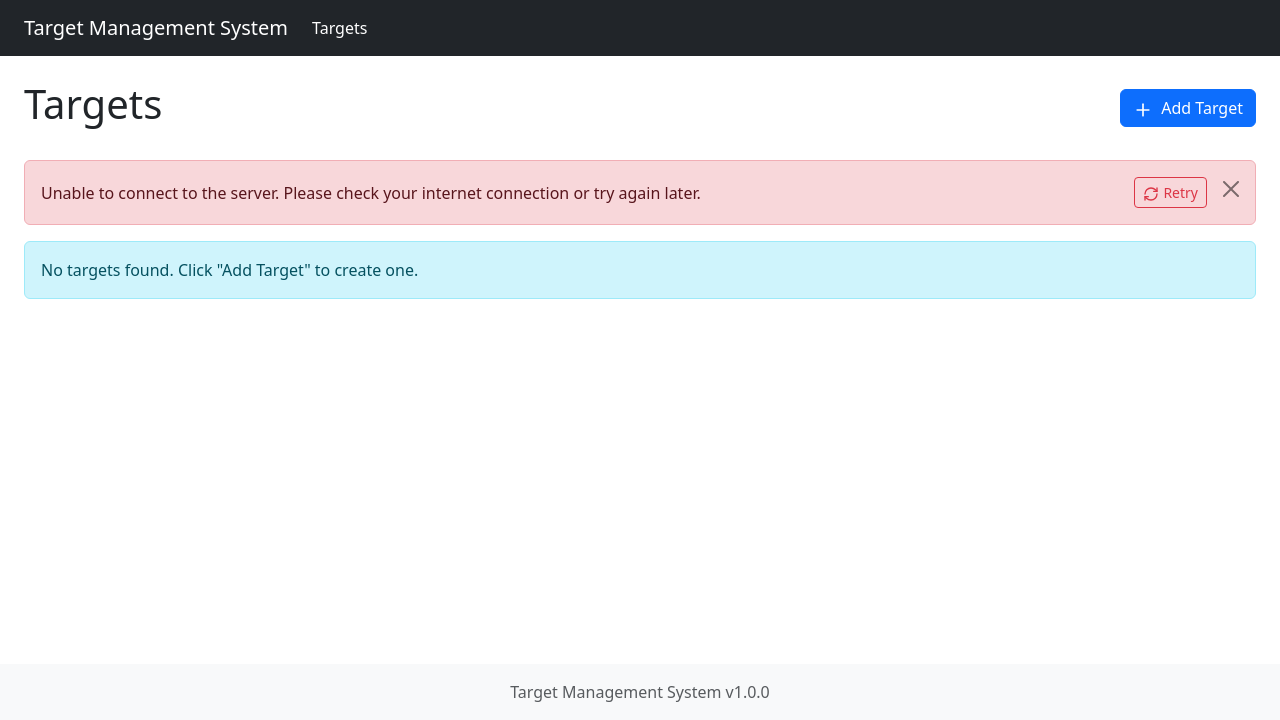
it: Target Management › Add Target › shows validation errors for invalid input
Check: the heading "Targets" is shown, box x1=24 y1=80 x2=162 y2=128
Click the button "Add Target". click: x=1188, y=108
box: x1=1120 y1=89 x2=1256 y2=127
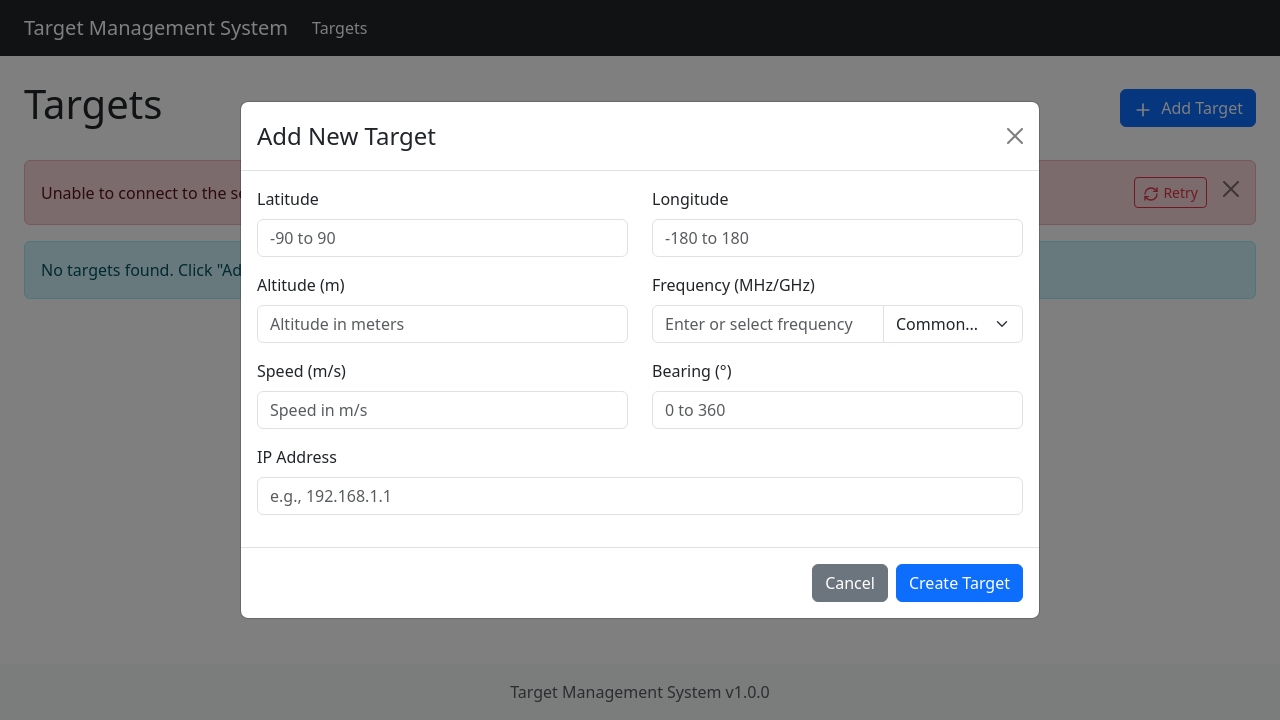
Check: the text "Add New Target" is shown, box x1=257 y1=118 x2=436 y2=154
# Try to submit empty form
Click the button "Create Target". click: x=960, y=583
box: x1=896 y1=564 x2=1023 y2=602
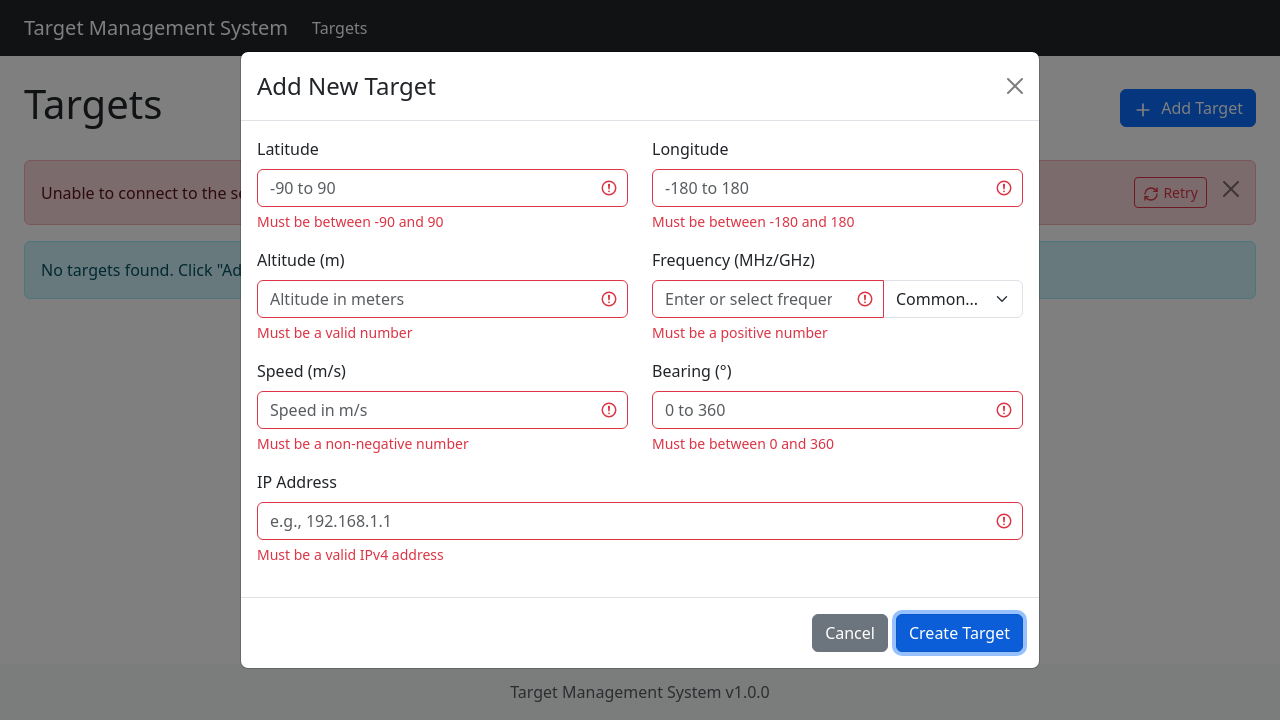
Check: the text "Must be between -90 and 90" is shown, box x1=257 y1=212 x2=444 y2=231
